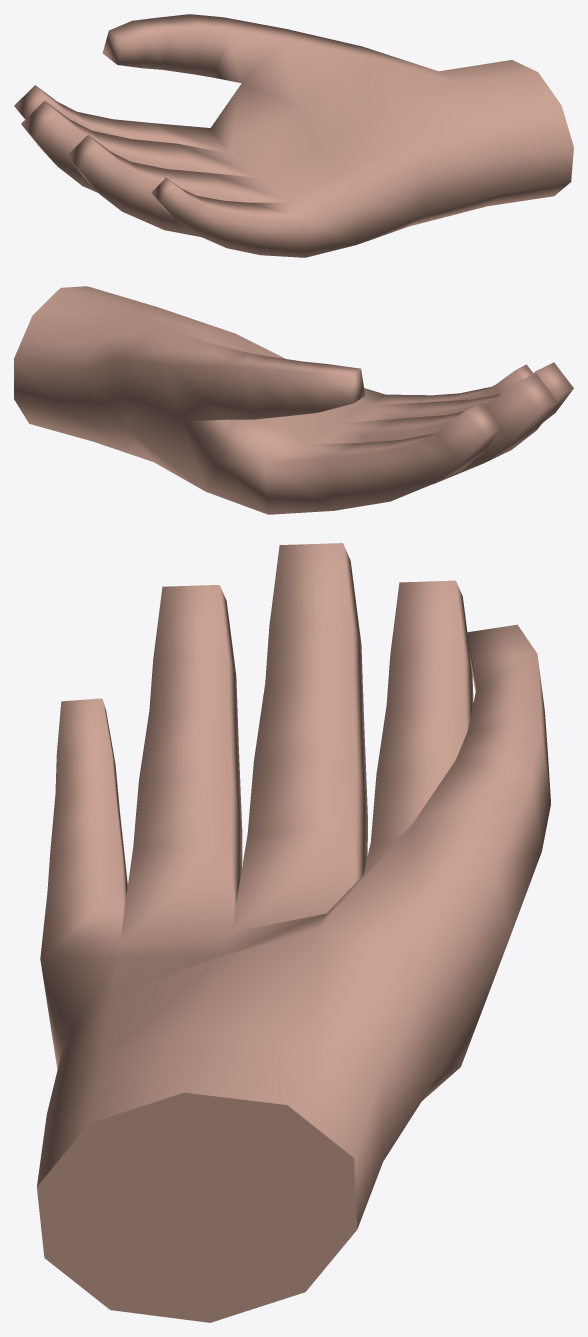
Rendered from Mage Hand.fbx.
The picture shows the model from 3 angles, top to bottom: view 1: azimuth 30°, elevation 25°; view 2: azimuth 150°, elevation 25°; view 3: azimuth 270°, elevation 25°; orthographic projection. The views are drawn at different scales.
Visible parts, largest first — view 1: CharacterFemale:woman; view 2: CharacterFemale:woman; view 3: CharacterFemale:woman.
Boxes of the visible parts, <box> form: CharacterFemale:woman: <box>14,14,573,257</box>; CharacterFemale:woman: <box>14,286,573,514</box>; CharacterFemale:woman: <box>37,543,550,1322</box>.
Size of the model in its own units: 20.81 by 7.55 by 9.69.
